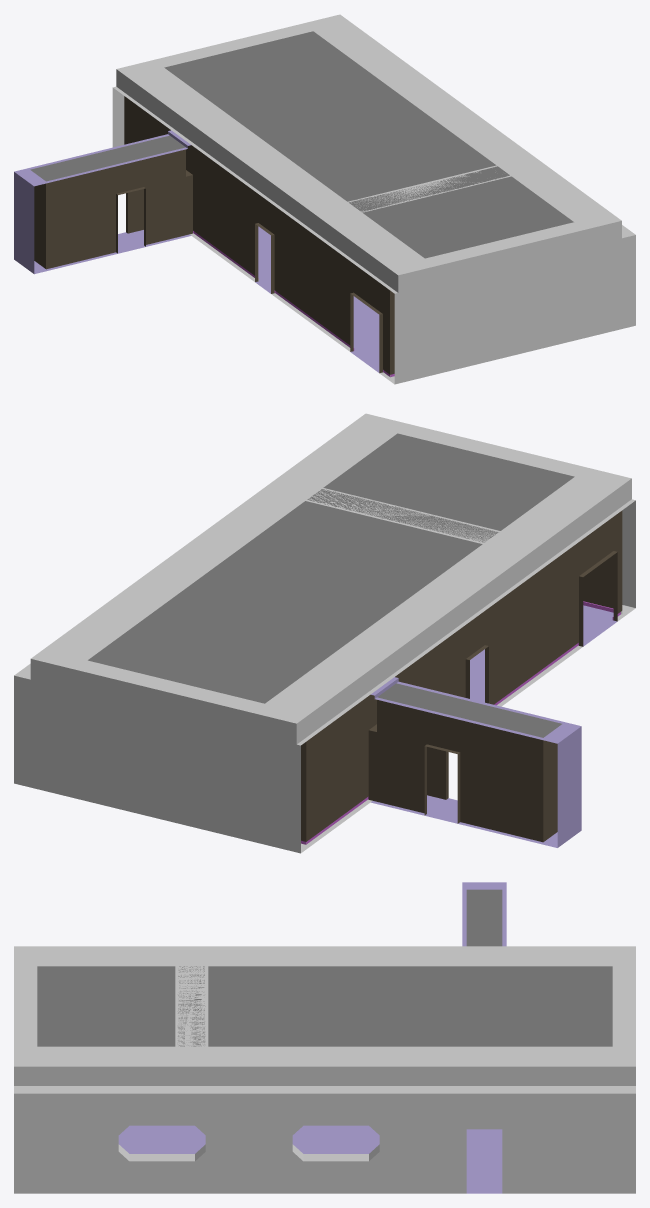
Rendered from SalonPrincipalPartes 1.fbx.
3 views of the same model, one above another, from view 1: azimuth 30°, elevation 25°; view 2: azimuth 150°, elevation 25°; view 3: azimuth 270°, elevation 25° (orthographic). The views are drawn at different scales.
Parts seen in each view (by area): view 1: SalaPrincipal, TechoSalaPrincipal, SueloSalaPrincipal; view 2: SalaPrincipal, TechoSalaPrincipal, SueloSalaPrincipal; view 3: SalaPrincipal, TechoSalaPrincipal, SueloSalaPrincipal.
Part boxes in pixels (x1,y1,x2,y2): SalaPrincipal: [14, 14, 635, 384]; TechoSalaPrincipal: [30, 31, 573, 258]; SueloSalaPrincipal: [118, 226, 379, 372]; SalaPrincipal: [14, 413, 635, 853]; TechoSalaPrincipal: [88, 433, 574, 737]; SueloSalaPrincipal: [425, 605, 617, 823]; SalaPrincipal: [14, 882, 635, 1193]; TechoSalaPrincipal: [37, 889, 612, 1046]; SueloSalaPrincipal: [118, 1125, 502, 1193].
Size of the model in its own units: 1425 by 370 by 1745.
